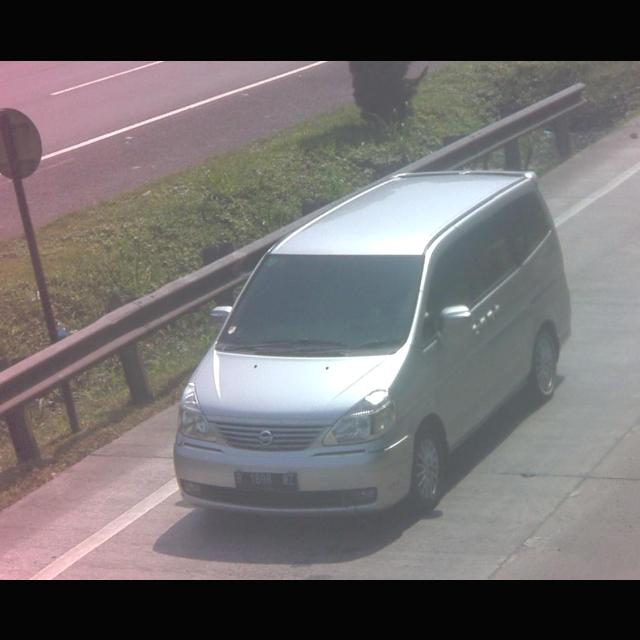plate: (230, 468, 300, 495)
